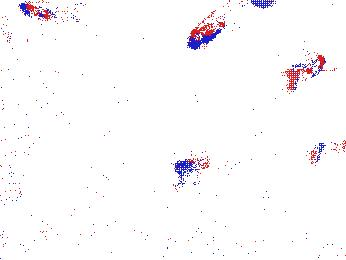X-ray fish: (307, 221, 346, 260)
red belly glassfish: (19, 1, 82, 25)
redtail glassfish: (187, 1, 271, 50), (288, 52, 325, 93), (306, 129, 346, 165)
